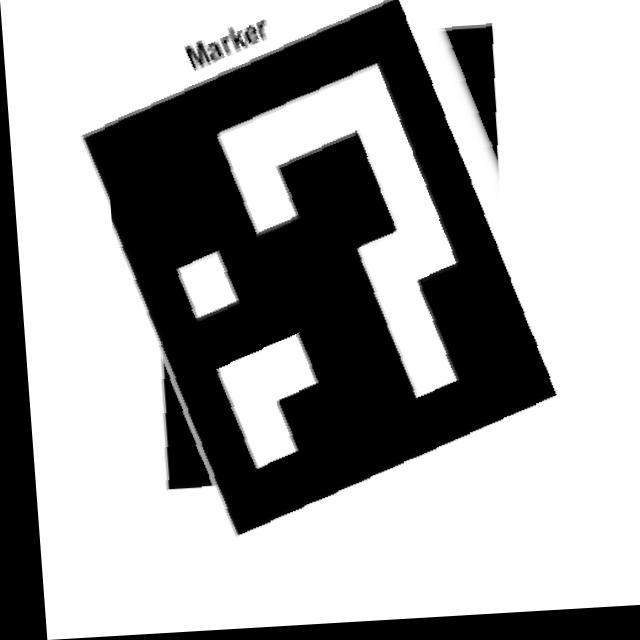aruco: (95, 0, 605, 636)
